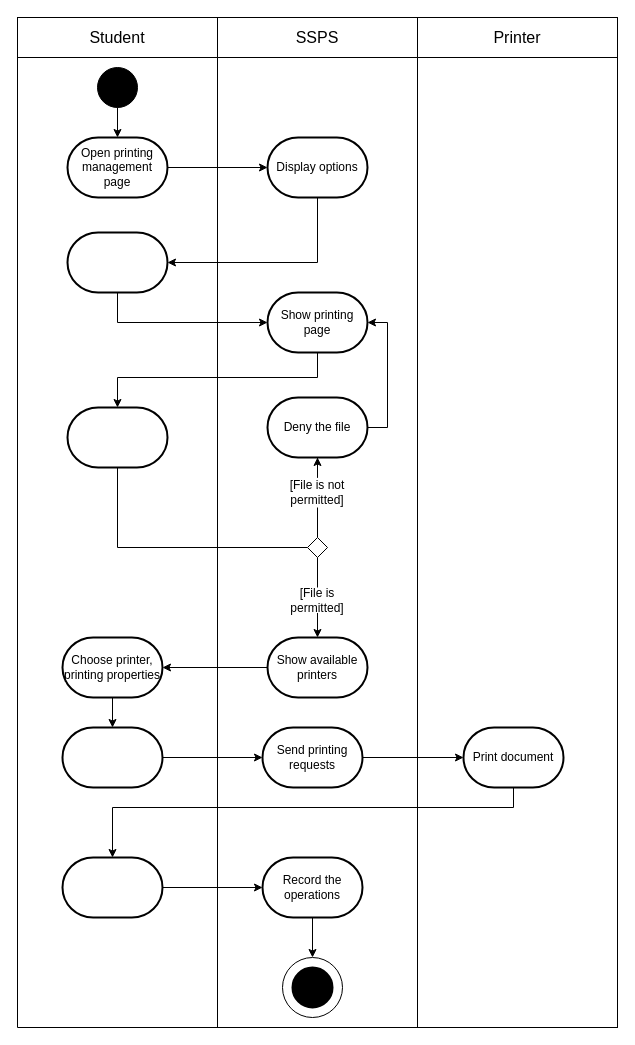
Image size: 635x1045. Some labels were removed from this diagram. The box of each missing label's shape, as (x1, y1, x2, y2) in pixels:
Collect printed document: (61, 856, 163, 918)
Confirm printing: (61, 726, 163, 788)
Select "Printing Document": (66, 231, 168, 293)
Upload document: (66, 406, 168, 468)
